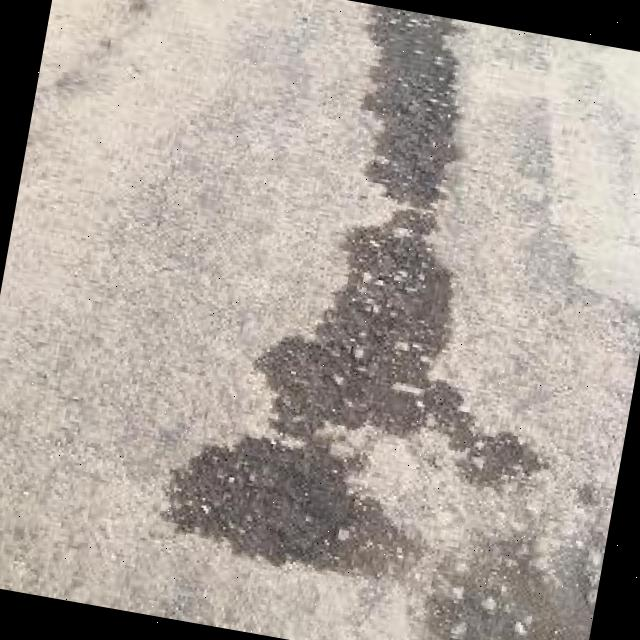stagnation: (121, 6, 565, 630)
